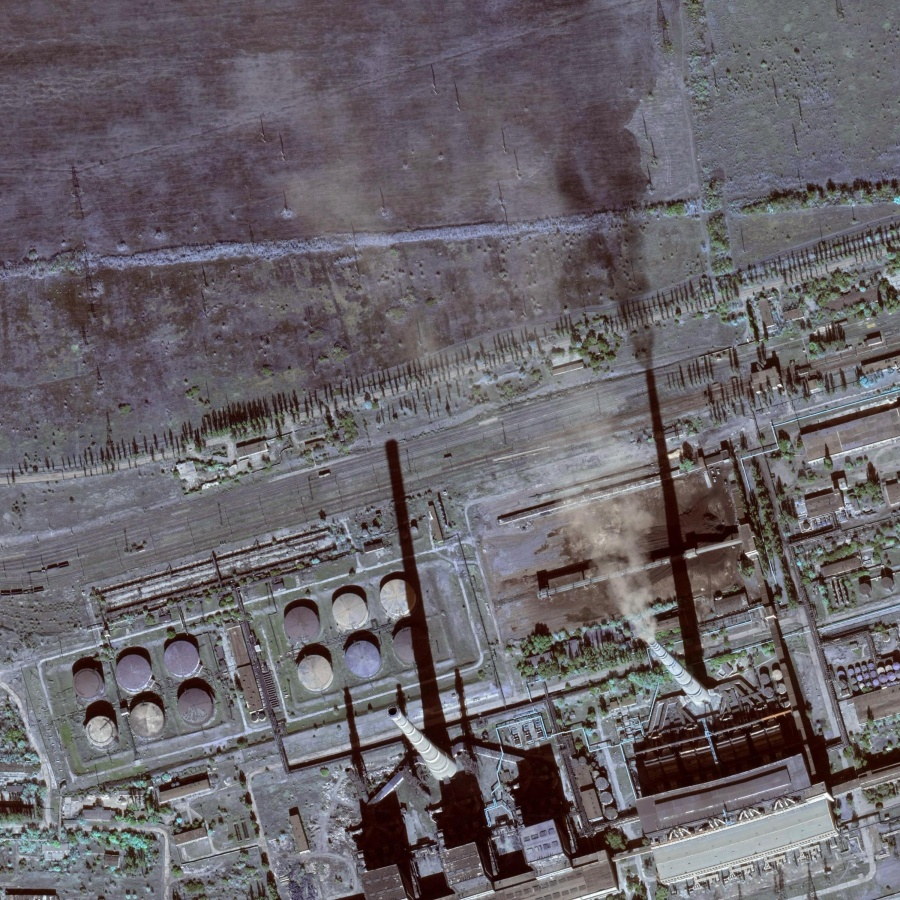PowerPlant: (34, 610, 242, 786)
